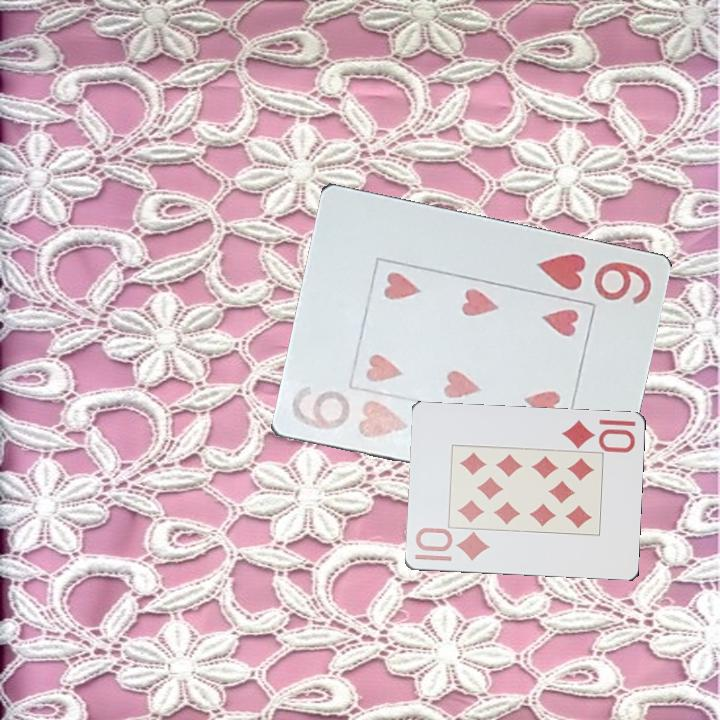6h: (286, 381, 411, 444), (532, 250, 654, 308)
Td: (558, 416, 638, 454), (411, 528, 492, 564)
